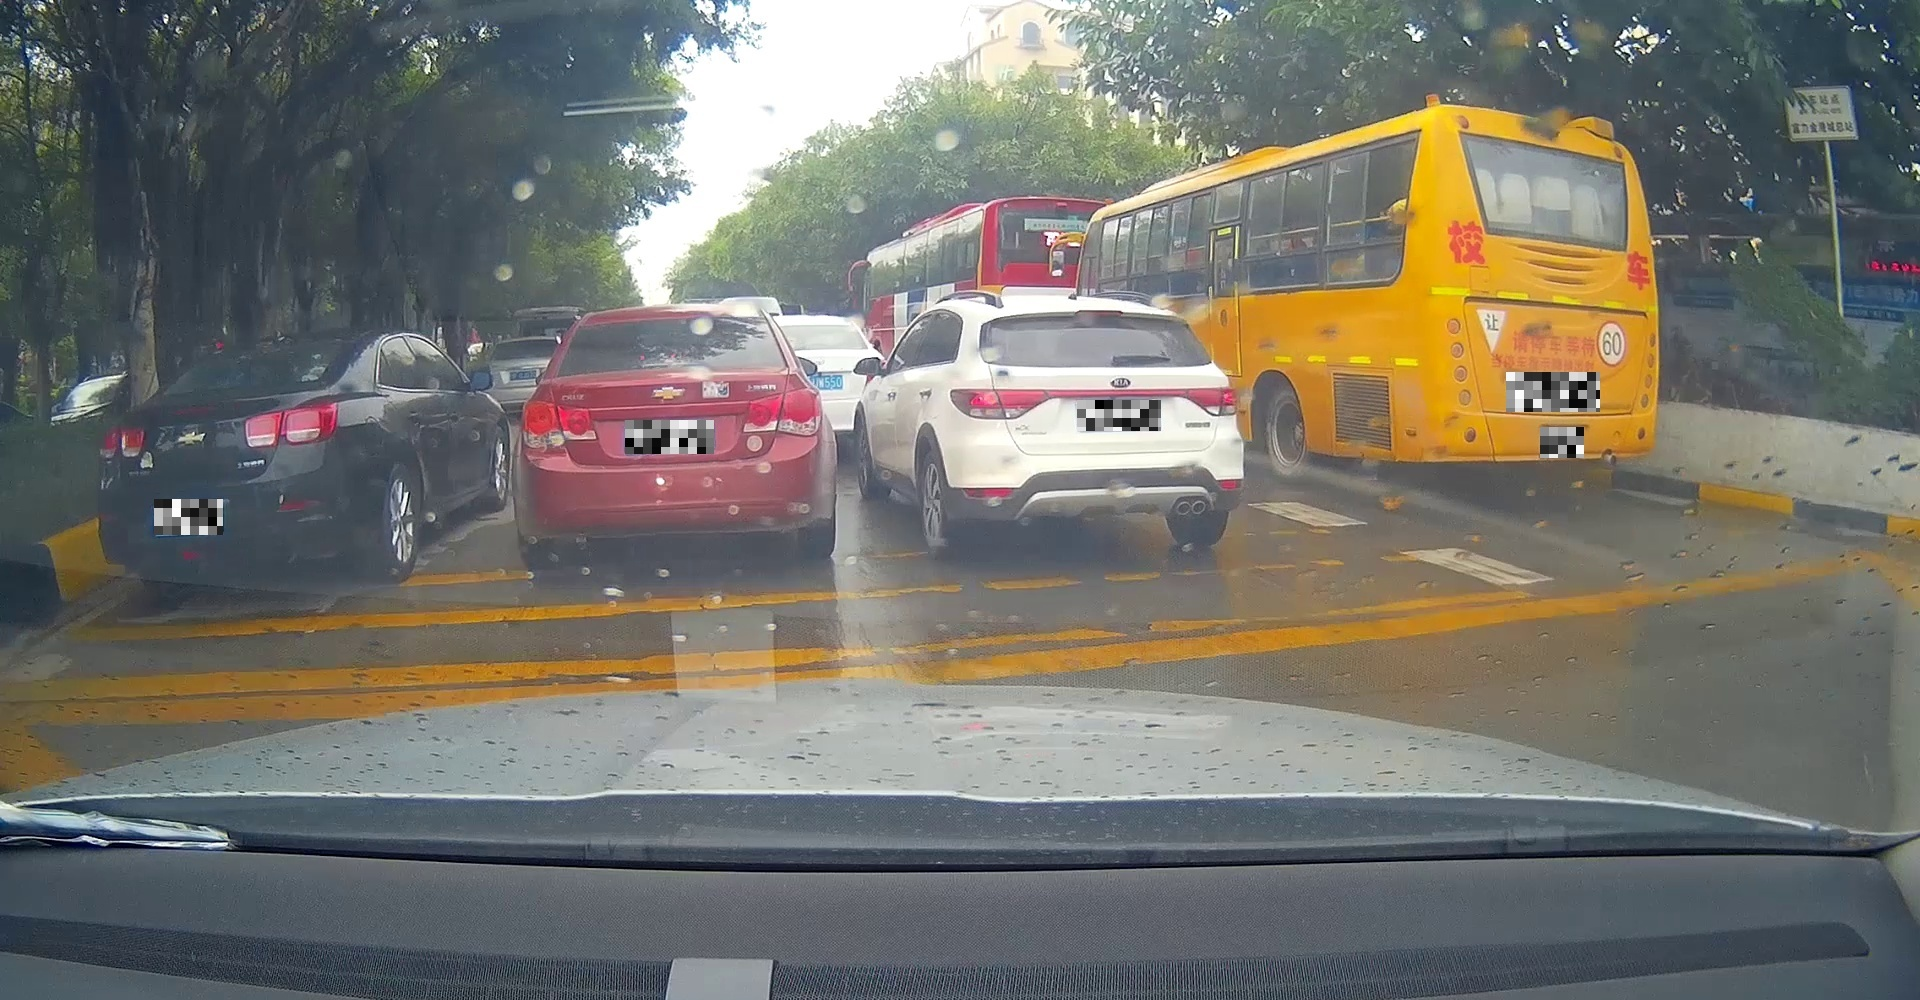L_light: (521, 402, 597, 448), (951, 390, 1049, 420), (1446, 317, 1472, 407), (102, 426, 145, 457)
R_light: (246, 404, 338, 447), (743, 388, 823, 437), (1185, 388, 1239, 418), (1641, 330, 1658, 409)
T_light: (1531, 222, 1575, 236), (643, 357, 692, 367), (268, 341, 302, 353), (1076, 310, 1123, 317)
day-no: (514, 305, 838, 569), (1432, 104, 1660, 478), (949, 294, 1244, 558), (98, 330, 356, 596)
plate_1: (154, 499, 223, 536)
plate_2: (625, 420, 714, 454)
plate_3: (1077, 400, 1161, 431)
plate_4: (1506, 372, 1600, 412)
plate_5: (1540, 426, 1583, 458)
